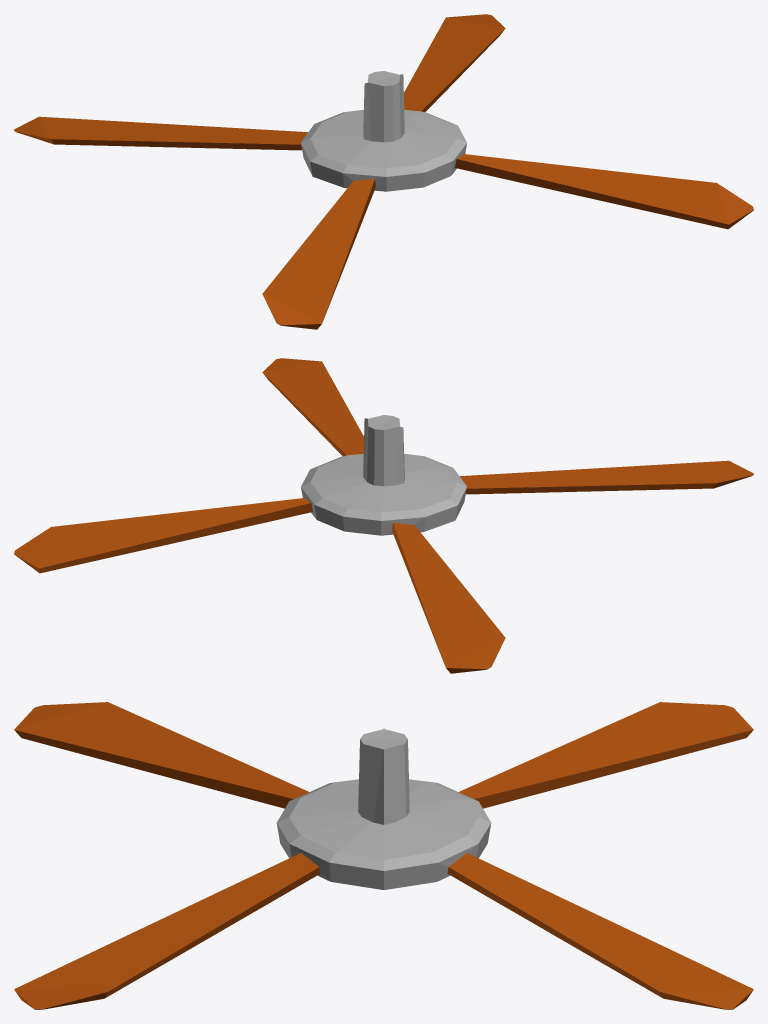
File: Fan.fbx
The picture shows the model from 3 angles, top to bottom: view 1: azimuth 30°, elevation 25°; view 2: azimuth 150°, elevation 25°; view 3: azimuth 270°, elevation 25°; orthographic projection. The views are drawn at different scales.
Visible parts, largest first — view 1: Fan; view 2: Fan; view 3: Fan.
Part boxes in pixels (x1,y1,x2,y2): Fan: [14, 14, 753, 329]; Fan: [14, 358, 753, 673]; Fan: [14, 702, 753, 1009].
Size of the model in its own units: 441 by 88.1 by 454.
